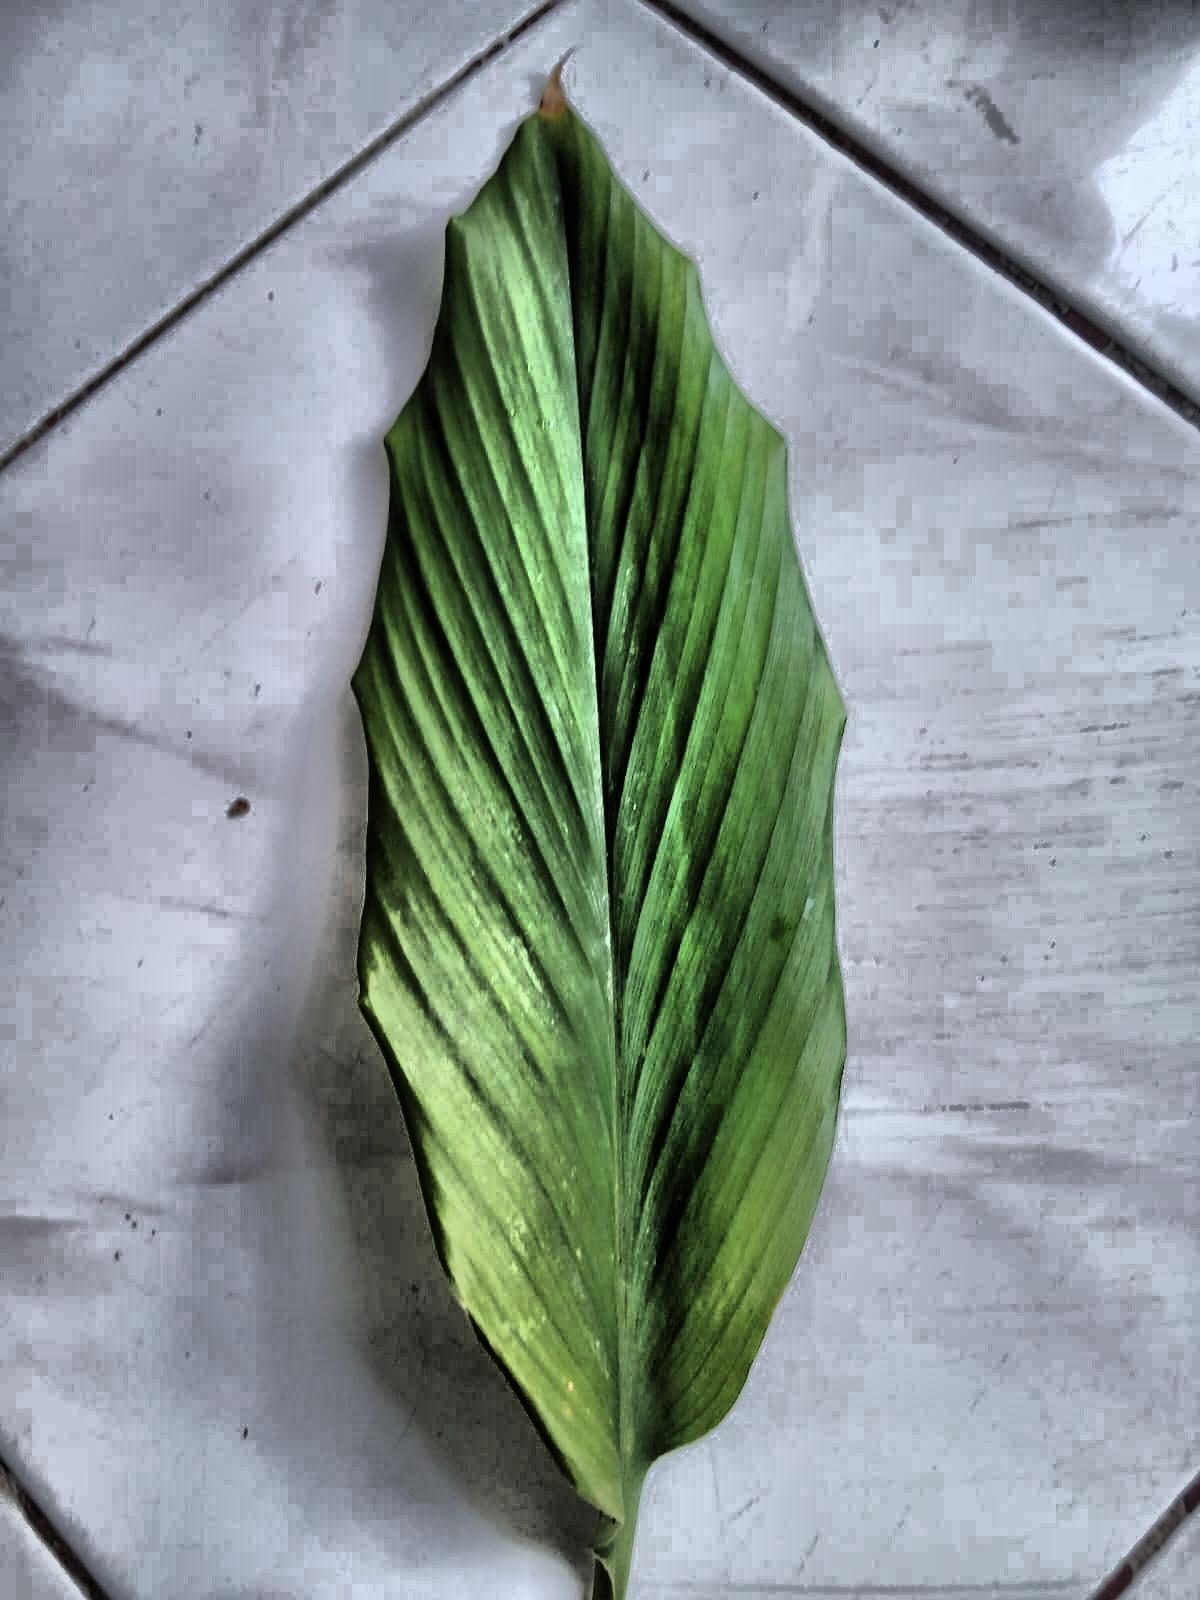daun kunyit: (353, 98, 846, 1599)
